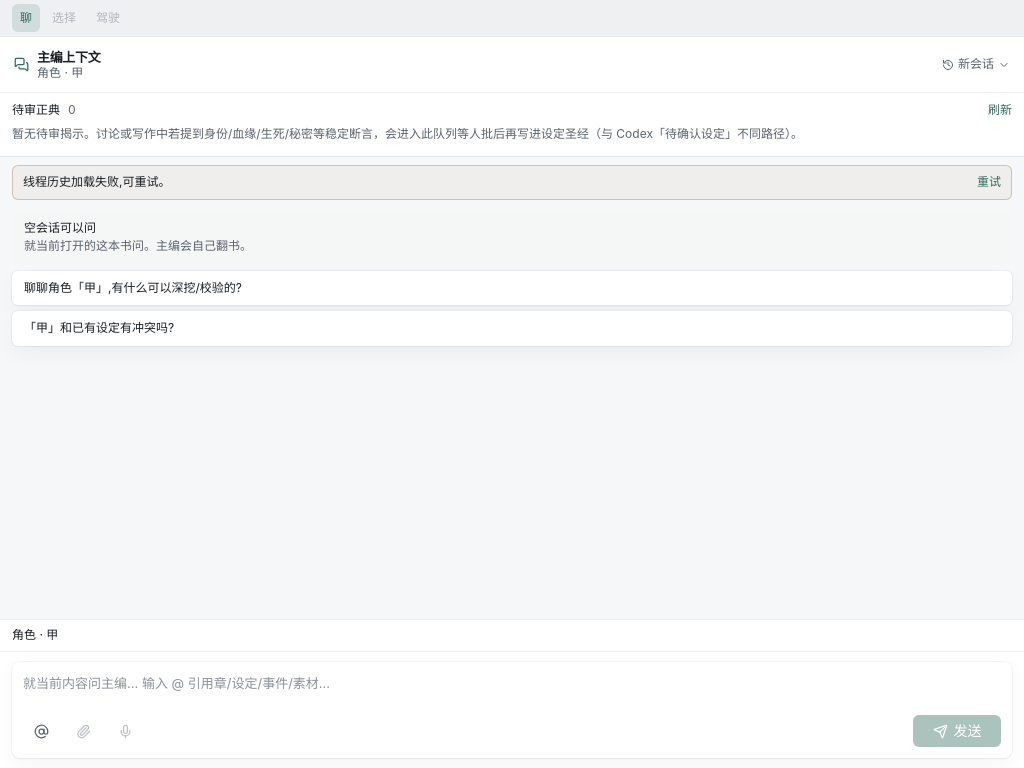
Test case: ChiefDock 线程连续性(Task 6) › I-2:线程历史载入失败不卡死且可重试
The width and height of the screenshot is (1024, 768).
Check: the element with test id "chief-thread-load-error" is shown, box top-left (12, 165), bottom-right (1012, 200)
Note: 点重试 → 第二次成功 → 消息出现,且确实重拉了一次
Click the button with test id "chief-thread-retry": [989, 183] box top-left (977, 174), bottom-right (1001, 191)
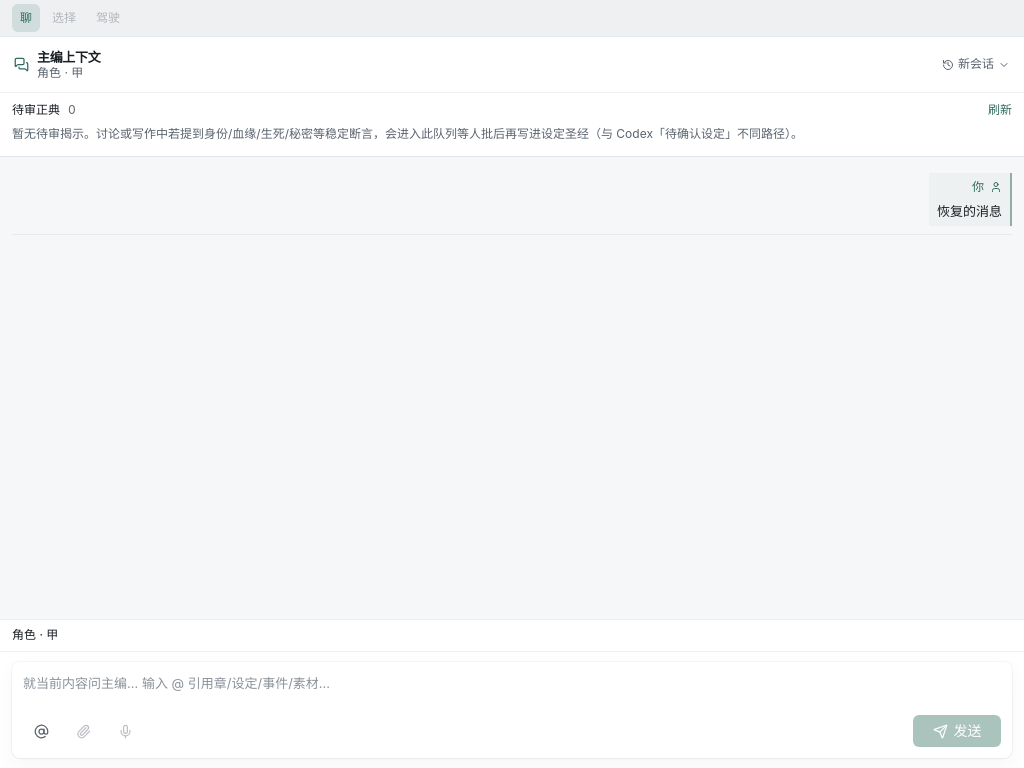
Check: the text "恢复的消息" is shown, box top-left (937, 203), bottom-right (1002, 219)
